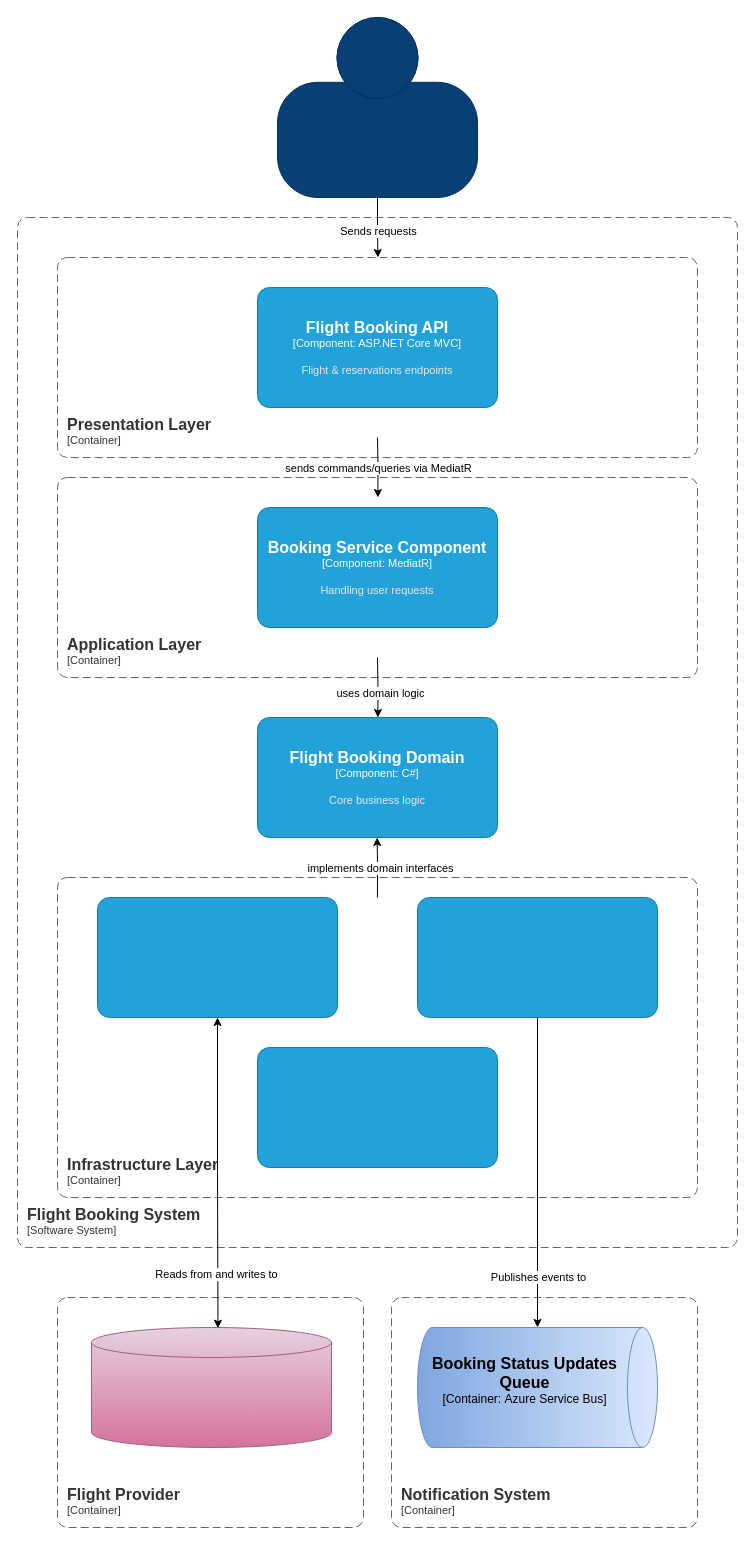
Image size: 755x1545. Some labels were removed from this diagram. Each missing label, with the box of its shape:
Data Provider [Adapter: EF Core] Repositories, DbContext, Migrations: (96, 896, 338, 1018)
Database [Container: Azure SQL Database]: (90, 1326, 332, 1448)
Messaging Provider [Adapter: Azure Service Bus SDK] Event Publisher: (416, 896, 658, 1018)
Scheduling component [Adapter: Hangfire] Background jobs: (256, 1046, 498, 1168)
User [Person]: (276, 16, 478, 198)
